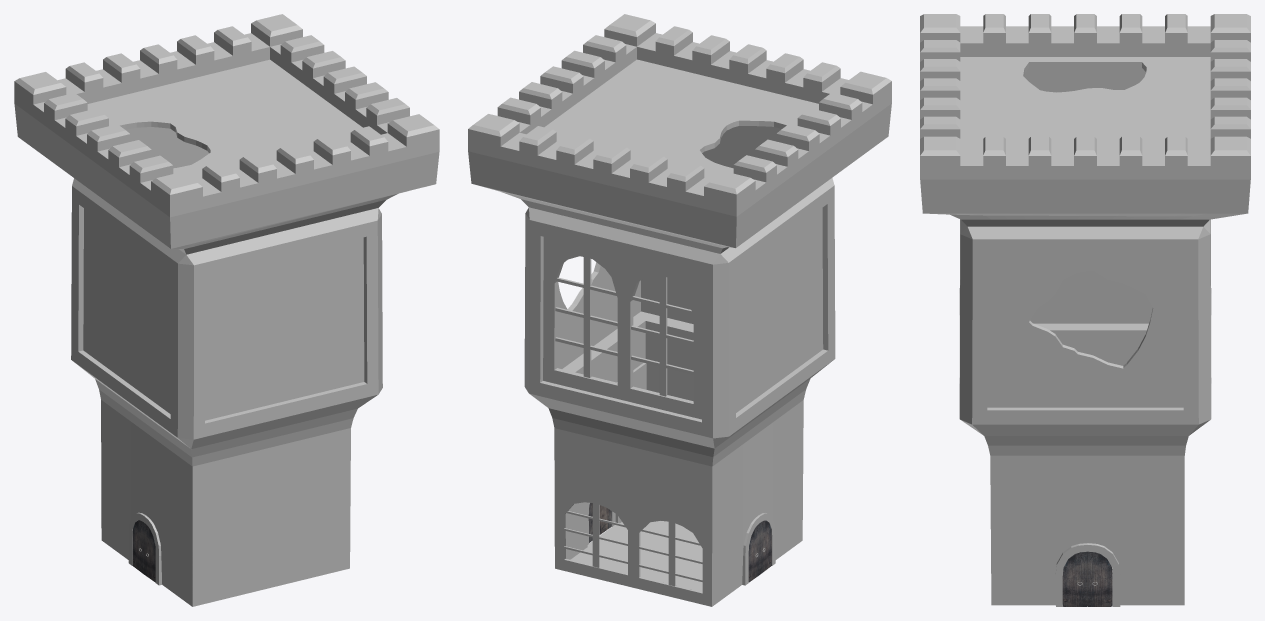
The model's file is level_2_platform_tower_1.fbx.
The picture shows the model from 3 angles, left to right: view 1: azimuth 30°, elevation 25°; view 2: azimuth 150°, elevation 25°; view 3: azimuth 270°, elevation 25°; orthographic projection. The views are drawn at different scales.
Visible parts, largest first — view 1: Cube, DoorFrame.001, LeftDoor.001, RightDoor.001; view 2: Cube, WindowBars, WindowBars.001, DoorFrame.001, RightDoor.001, LeftDoor.001; view 3: Cube, LeftDoor, RightDoor, DoorFrame.
Part boxes in pixels (bbox=[...]): Cube: bbox=[14, 14, 439, 606]; DoorFrame.001: bbox=[128, 512, 161, 585]; LeftDoor.001: bbox=[144, 523, 155, 582]; RightDoor.001: bbox=[132, 520, 144, 574]; Cube: bbox=[468, 14, 891, 606]; WindowBars: bbox=[555, 257, 693, 396]; WindowBars.001: bbox=[564, 503, 702, 586]; DoorFrame.001: bbox=[742, 513, 775, 585]; RightDoor.001: bbox=[748, 523, 760, 582]; LeftDoor.001: bbox=[760, 520, 771, 574]; Cube: bbox=[920, 14, 1250, 605]; LeftDoor: bbox=[1087, 551, 1112, 606]; RightDoor: bbox=[1062, 551, 1087, 606]; DoorFrame: bbox=[1055, 543, 1120, 606].
Bounding box in the file's own units: 532 × 856 × 532.
